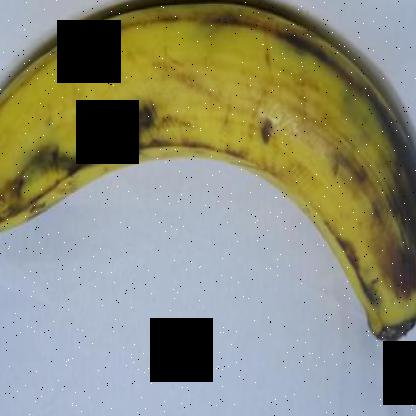ripe: (0, 1, 415, 393)
